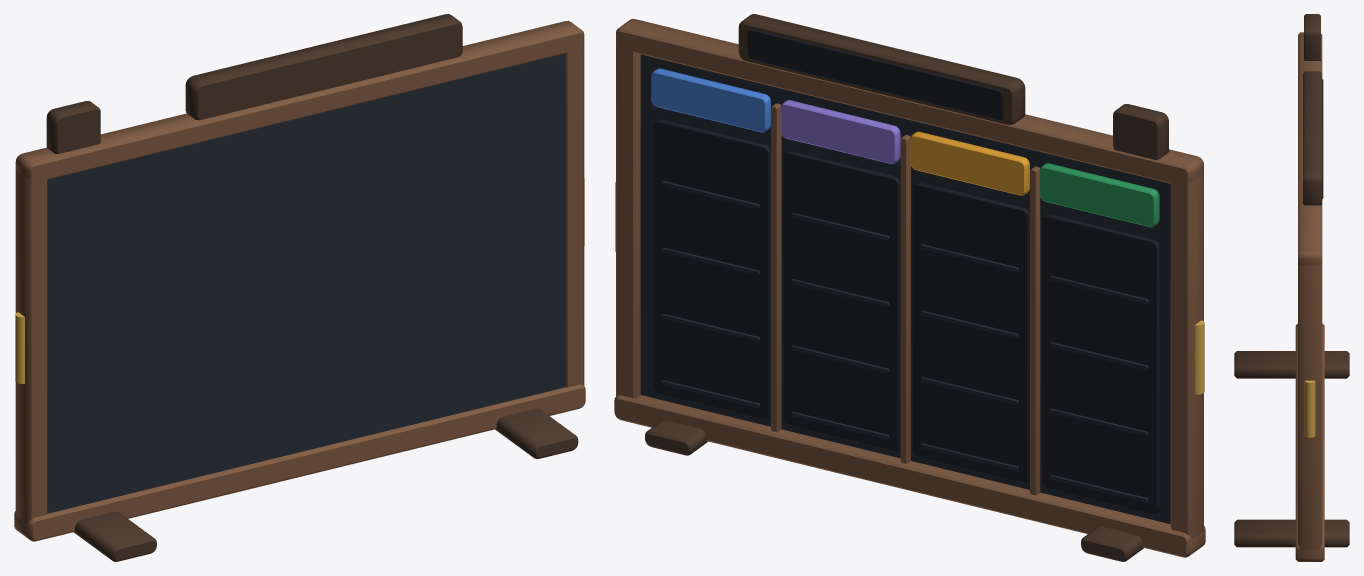
Rendered from TaskBoard_KanbanFrame_V2.fbx.
The picture shows the model from 3 angles, left to right: view 1: azimuth 30°, elevation 25°; view 2: azimuth 150°, elevation 25°; view 3: azimuth 270°, elevation 25°; orthographic projection. The views are drawn at different scales.
Visible parts, largest first — view 1: KanbanV2_FeltSlate, KanbanV2_WarmWood, KanbanV2_TrayWood, KanbanV2_Brass; view 2: KanbanV2_Plate, KanbanV2_WarmWood, KanbanV2_FeltSlate, KanbanV2_TrayWood, KanbanV2_PlateRim, Header_Completed, Header_InProgress, Header_Blocked, Header_Queued, KanbanV2_Brass; view 3: KanbanV2_WarmWood, KanbanV2_TrayWood, KanbanV2_Brass, KanbanV2_Plate.
Boxes of the visible parts, x1=… form: KanbanV2_FeltSlate: x1=47, y1=53, x2=565, y2=513; KanbanV2_WarmWood: x1=14, y1=20, x2=585, y2=541; KanbanV2_TrayWood: x1=46, y1=14, x2=578, y2=561; KanbanV2_Brass: x1=15, y1=178, x2=584, y2=383; KanbanV2_Plate: x1=653, y1=29, x2=1159, y2=514; KanbanV2_WarmWood: x1=614, y1=18, x2=1205, y2=557; KanbanV2_FeltSlate: x1=640, y1=54, x2=1170, y2=524; KanbanV2_TrayWood: x1=645, y1=14, x2=1168, y2=561; KanbanV2_PlateRim: x1=661, y1=181, x2=1148, y2=502; Header_Completed: x1=1039, y1=163, x2=1159, y2=227; Header_InProgress: x1=780, y1=100, x2=900, y2=164; Header_Blocked: x1=910, y1=131, x2=1029, y2=195; Header_Queued: x1=651, y1=68, x2=770, y2=132; KanbanV2_Brass: x1=615, y1=181, x2=1204, y2=394; KanbanV2_WarmWood: x1=1295, y1=32, x2=1324, y2=561; KanbanV2_TrayWood: x1=1234, y1=14, x2=1349, y2=547; KanbanV2_Brass: x1=1304, y1=380, x2=1315, y2=437; KanbanV2_Plate: x1=1322, y1=79, x2=1323, y2=198.
Size of the model in its own units: 44.46 by 31.4 by 9.5.
